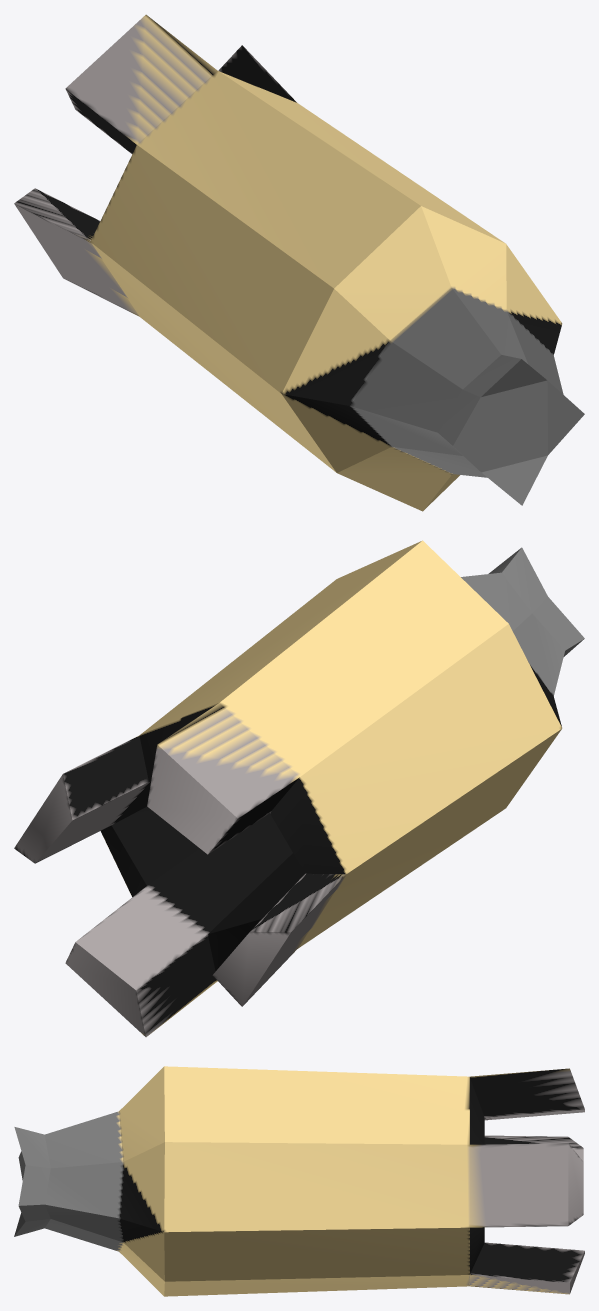
Rendered from turbine 4.FBX.
3 renders of one model, top to bottom at view 1: azimuth 30°, elevation 25°; view 2: azimuth 150°, elevation 25°; view 3: azimuth 270°, elevation 25°, orthographic. The views are drawn at different scales.
Parts seen in each view (by area): view 1: Box001; view 2: Box001; view 3: Box001.
Part boxes in pixels (x1,y1,x2,y2): Box001: (14, 14, 584, 511); Box001: (14, 540, 584, 1037); Box001: (14, 1066, 584, 1296).
Size of the model in its own units: 22.28 by 23.19 by 52.26.
1 material, 1 textured.
